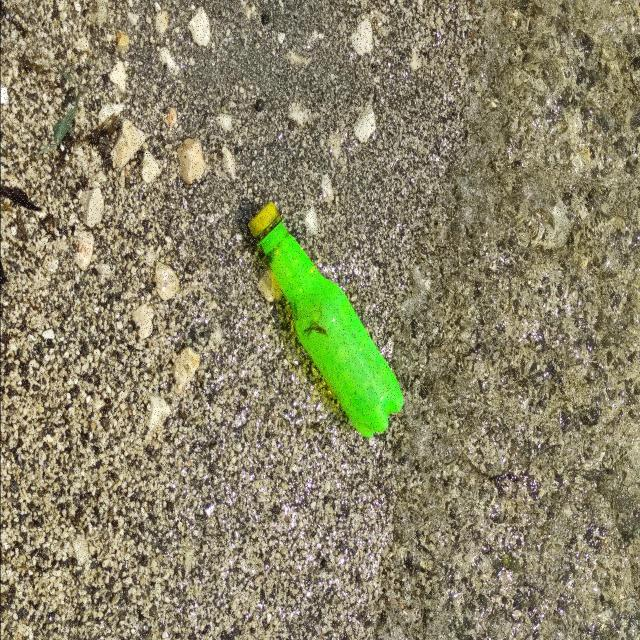plastic_waste: (248, 200, 406, 441)
